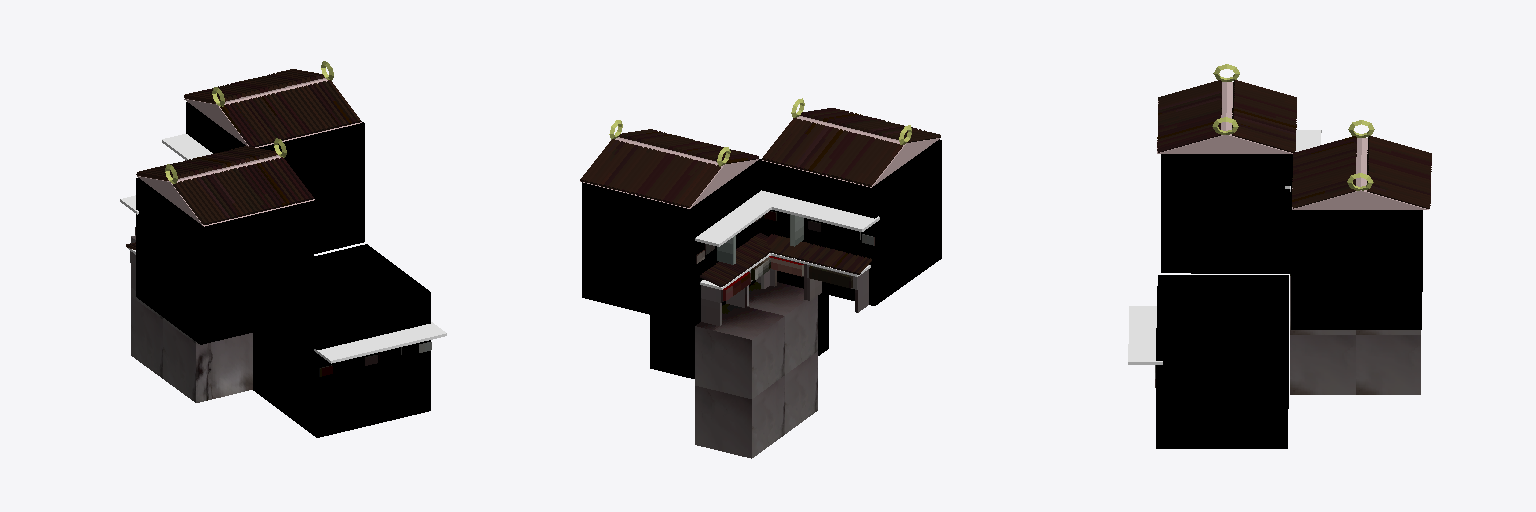
3 views of the same model, side by side, from view 1: azimuth 30°, elevation 25°; view 2: azimuth 150°, elevation 25°; view 3: azimuth 270°, elevation 25° (orthographic).
Parts seen in each view (by area): view 1: 1000_0001; view 2: 1000_0001; view 3: 1000_0001.
Boxes of the visible parts, box(x1,y1,x2,y2) form: 1000_0001: box(120, 61, 446, 437); 1000_0001: box(580, 98, 941, 458); 1000_0001: box(1128, 64, 1431, 448).
Bounding box in the file's own units: 1.02 × 1.16 × 1.16.
Materials: 12 (7 with a texture image).